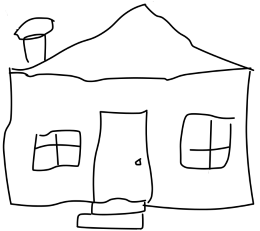big_house: (0, 0, 260, 230)
chimney: (9, 11, 60, 69)
closed_window: (169, 107, 238, 181), (32, 118, 91, 178)
door: (90, 106, 159, 212)
roof: (3, 0, 255, 84)
wall: (1, 65, 257, 215)
